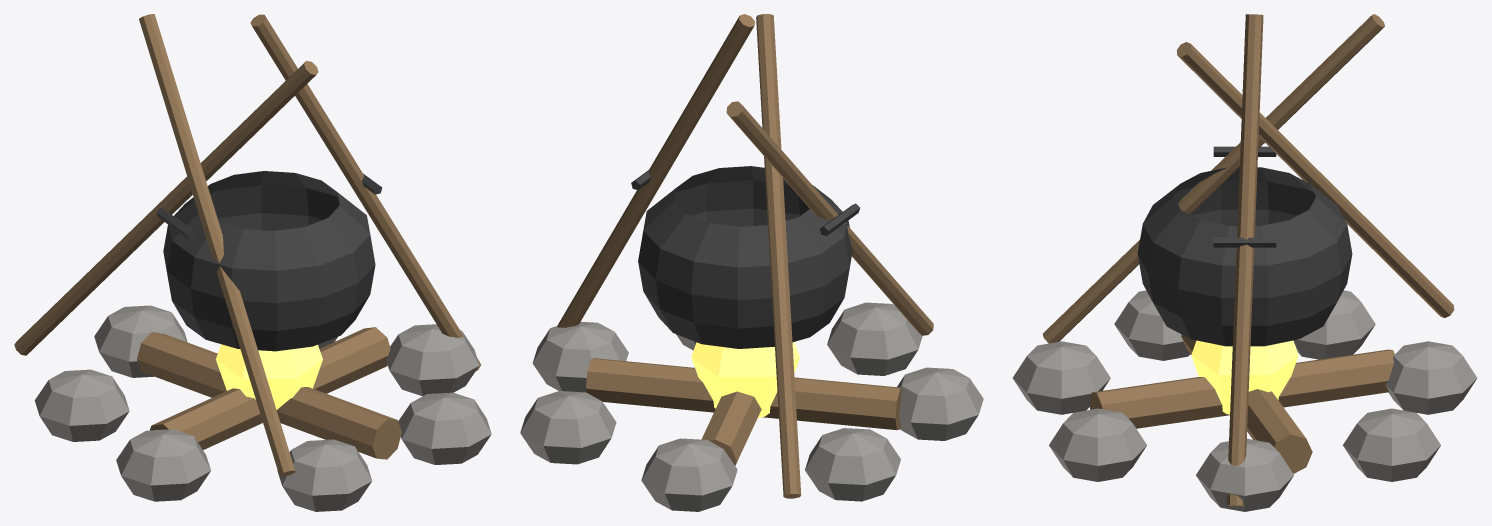
File: cooking_hearth.glb
3 renders of one model, left to right at view 1: azimuth 30°, elevation 25°; view 2: azimuth 150°, elevation 25°; view 3: azimuth 270°, elevation 25°, orthographic.
Parts seen in each view (by area): view 1: cook_pot, hearth_log_2, tripod_2, tripod_1, hearth_log_1, tripod_0, hearth_stone_4, hearth_stone_3, hearth_stone_6, hearth_stone_5, hearth_stone_0, flame_0 (+1 smaller); view 2: cook_pot, hearth_log_1, tripod_1, tripod_0, hearth_stone_1, hearth_stone_3, hearth_stone_2, hearth_stone_5, hearth_stone_4, tripod_2, flame_0, hearth_stone_0 (+1 smaller); view 3: cook_pot, hearth_log_2, tripod_0, tripod_2, tripod_1, hearth_stone_1, hearth_stone_6, hearth_stone_5, hearth_stone_2, hearth_stone_0, flame_0, hearth_log_1 (+3 smaller).
Boxes of the visible parts, x1=… form: cook_pot: x1=163, y1=171, x2=375, y2=351; hearth_log_2: x1=137, y1=332, x2=401, y2=459; tripod_2: x1=139, y1=14, x2=295, y2=476; tripod_1: x1=14, y1=61, x2=318, y2=355; hearth_log_1: x1=150, y1=327, x2=390, y2=449; tripod_0: x1=250, y1=14, x2=480, y2=370; hearth_stone_4: x1=116, y1=429, x2=210, y2=501; hearth_stone_3: x1=34, y1=369, x2=129, y2=441; hearth_stone_6: x1=398, y1=392, x2=491, y2=464; hearth_stone_5: x1=277, y1=439, x2=371, y2=511; hearth_stone_0: x1=386, y1=324, x2=479, y2=396; flame_0: x1=216, y1=344, x2=322, y2=409; cook_pot: x1=638, y1=166, x2=852, y2=348; hearth_log_1: x1=586, y1=358, x2=902, y2=430; tripod_1: x1=756, y1=14, x2=801, y2=498; tripod_0: x1=557, y1=14, x2=754, y2=327; hearth_stone_1: x1=520, y1=391, x2=616, y2=464; hearth_stone_3: x1=805, y1=428, x2=900, y2=501; hearth_stone_2: x1=641, y1=438, x2=737, y2=511; hearth_stone_5: x1=827, y1=302, x2=922, y2=375; hearth_stone_4: x1=897, y1=367, x2=983, y2=440; tripod_2: x1=726, y1=101, x2=933, y2=335; flame_0: x1=691, y1=342, x2=799, y2=418; hearth_stone_0: x1=532, y1=321, x2=628, y2=392; cook_pot: x1=1137, y1=167, x2=1352, y2=346; hearth_log_2: x1=1089, y1=349, x2=1394, y2=428; tripod_0: x1=1226, y1=14, x2=1263, y2=506; tripod_2: x1=1042, y1=14, x2=1384, y2=343; tripod_1: x1=1176, y1=42, x2=1454, y2=317; hearth_stone_1: x1=1343, y1=408, x2=1440, y2=481; hearth_stone_6: x1=1049, y1=408, x2=1146, y2=481; hearth_stone_5: x1=1012, y1=341, x2=1110, y2=414; hearth_stone_2: x1=1385, y1=341, x2=1477, y2=414; hearth_stone_0: x1=1196, y1=439, x2=1293, y2=511; flame_0: x1=1191, y1=340, x2=1298, y2=414; hearth_log_1: x1=1181, y1=335, x2=1312, y2=473.
Size of the model in its own units: 1.02 by 1.02 by 1.04.
